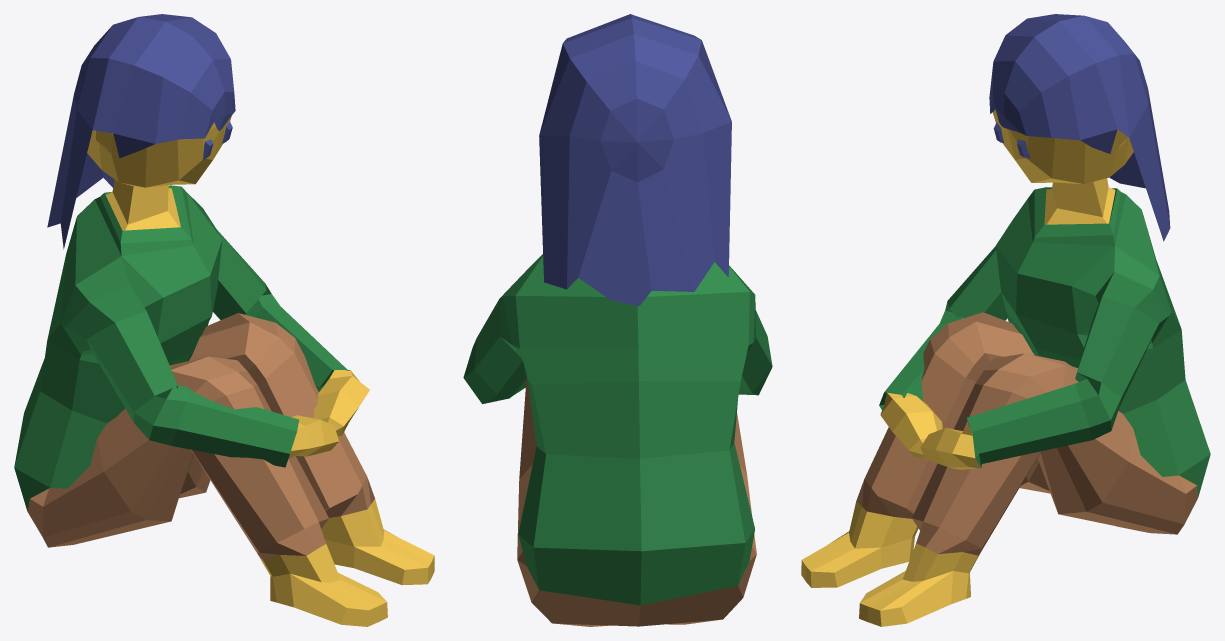
Rendered from 095_店員(Woman)005.glb.
The picture shows the model from 3 angles, left to right: view 1: azimuth 30°, elevation 25°; view 2: azimuth 150°, elevation 25°; view 3: azimuth 270°, elevation 25°; orthographic projection. The views are drawn at different scales.
Parts seen in each view (by area): view 1: 立方体061_4, 立方体061_2, 立方体061, 立方体061_1, 立方体061_3; view 2: 立方体061_4, 立方体061, 立方体061_2; view 3: 立方体061_4, 立方体061_2, 立方体061, 立方体061_1, 立方体061_3.
Boxes of the visible parts, x1,y1,x2,y2 form: 立方体061_4: [14, 185, 350, 510]; 立方体061_2: [27, 313, 374, 559]; 立方体061: [47, 14, 235, 249]; 立方体061_1: [87, 116, 434, 626]; 立方体061_3: [288, 370, 369, 458]; 立方体061_4: [463, 254, 772, 605]; 立方体061: [539, 14, 731, 305]; 立方体061_2: [517, 378, 756, 626]; 立方体061_4: [879, 187, 1210, 497]; 立方体061_2: [856, 312, 1197, 555]; 立方体061: [989, 14, 1170, 241]; 立方体061_1: [801, 109, 1133, 626]; 立方体061_3: [880, 393, 981, 469].
Bounding box in the file's own units: 0.7446 × 1.22 × 0.8736.
